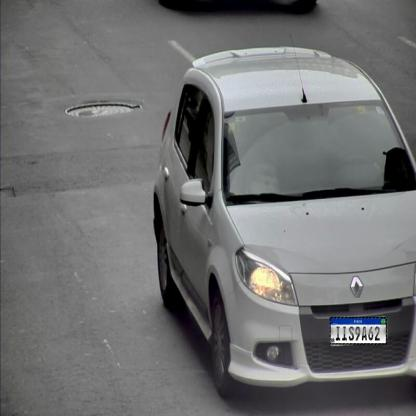PlacaM: (330, 317, 387, 344)
